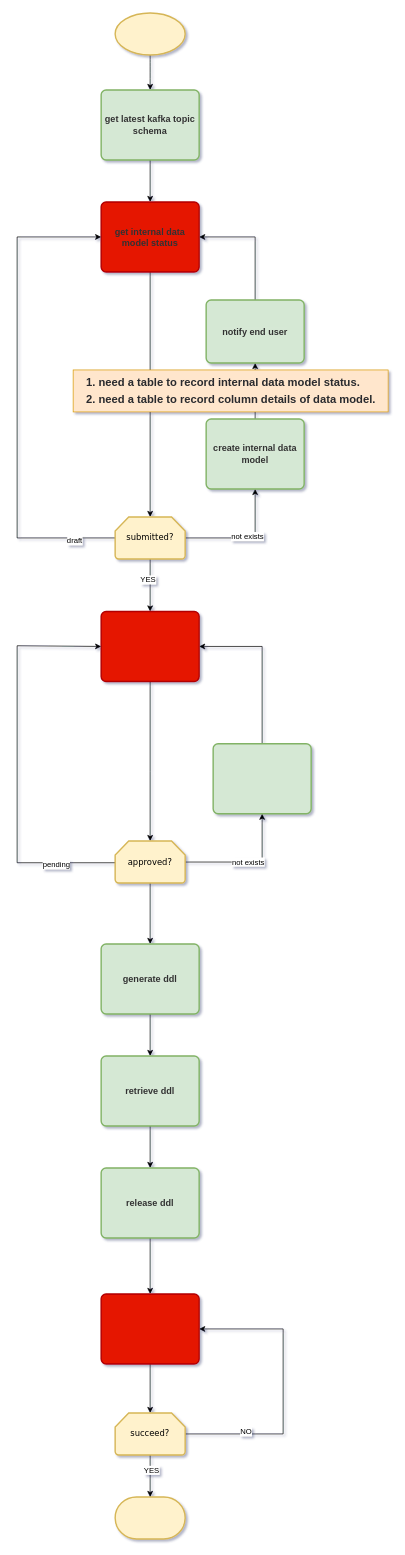
The diagram is 405 pixels wide and 1555 high, and some of its shapes have lost their labels. Here are the shapes that lost their labels. From the top down, the box of each, then its label:
(114, 12, 186, 55): Start
(100, 610, 200, 682): get doe data model status
(212, 743, 312, 814): create doe data model
(100, 1293, 200, 1364): get release status
(114, 1496, 186, 1539): End
